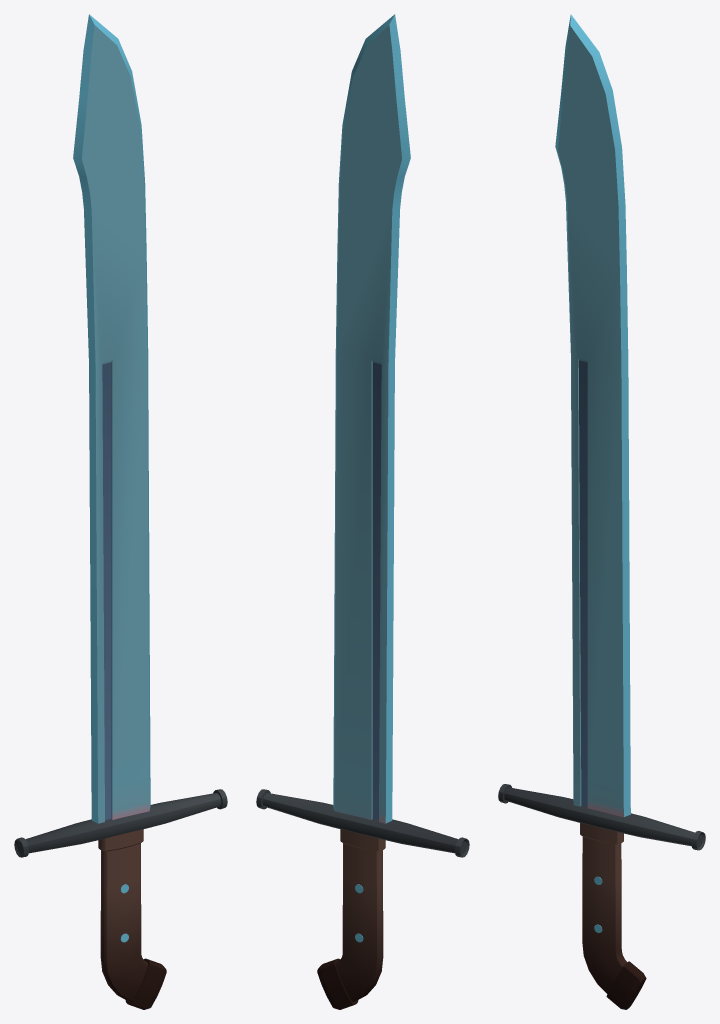
The model's file is SM_Sword12_GrosseMesser_6Fantasy_Blue.fbx.
The picture shows the model from 3 angles, left to right: view 1: azimuth 30°, elevation 25°; view 2: azimuth 150°, elevation 25°; view 3: azimuth 330°, elevation 25°; orthographic projection. The views are drawn at different scales.
Parts seen in each view (by area): view 1: Cube.386, Cube.387, Cylinder.527; view 2: Cube.386, Cube.387, Cylinder.527; view 3: Cube.386, Cube.387, Cylinder.527.
Part boxes in pixels (x1,y1,x2,y2): Cube.386: (73,14,150,823); Cube.387: (98,829,166,1009); Cylinder.527: (14,789,227,857); Cube.386: (333,14,410,823); Cube.387: (317,829,385,1009); Cylinder.527: (256,789,469,857); Cube.386: (555,14,630,817); Cube.387: (580,823,646,1009); Cylinder.527: (498,784,705,850).
Bounding box in the file's own units: 0.1732 × 0.8193 × 0.0189.
